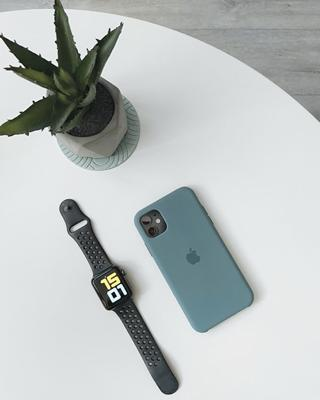Mobile Phone: (133, 184, 254, 333)
